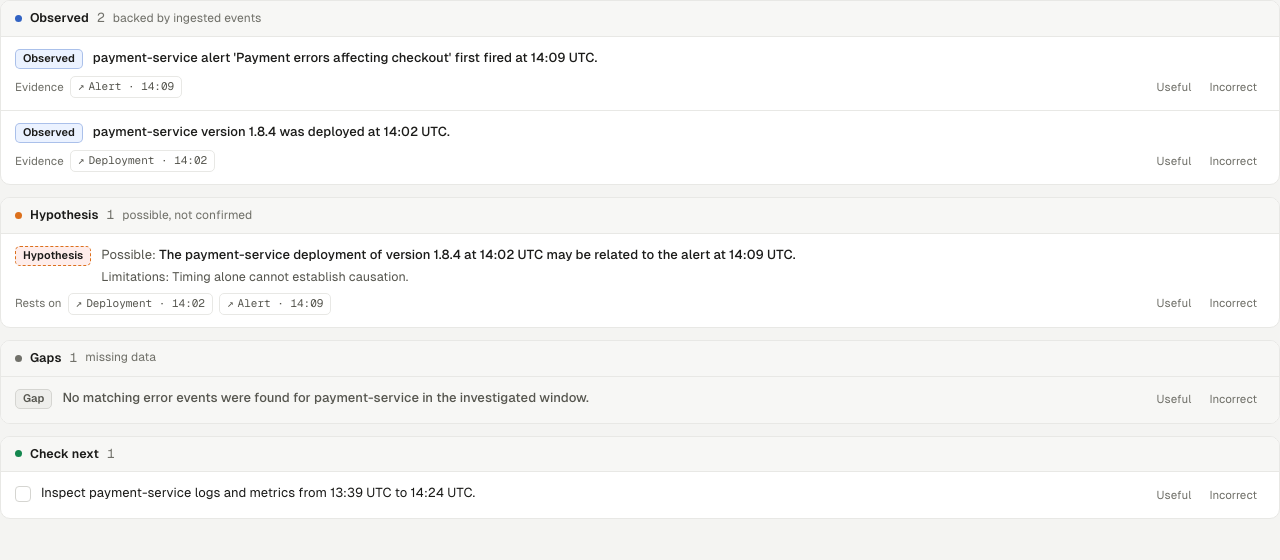
Findings › feedback › rolls a check back when it can't be saved
Click the checkbox: (23, 494) [15, 486, 31, 502]
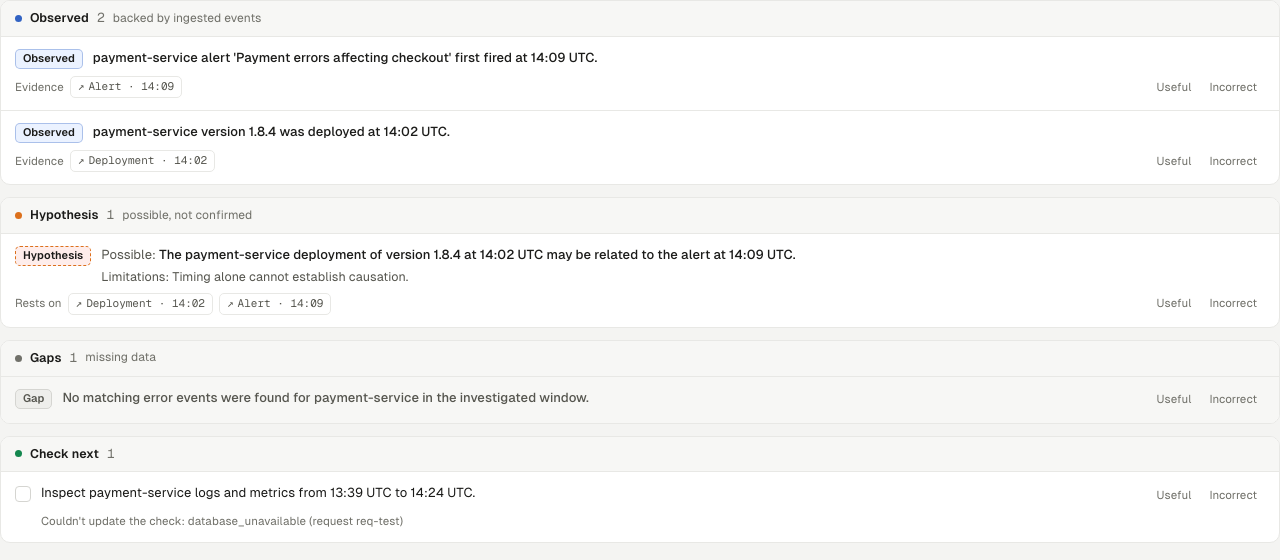
expect the message shows "Couldn't update the check": met, box [41, 514, 403, 528]
